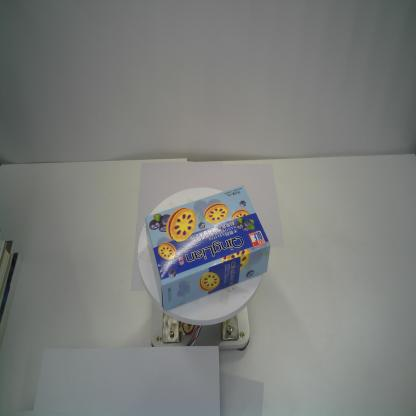Dessert: (144, 184, 272, 313)
